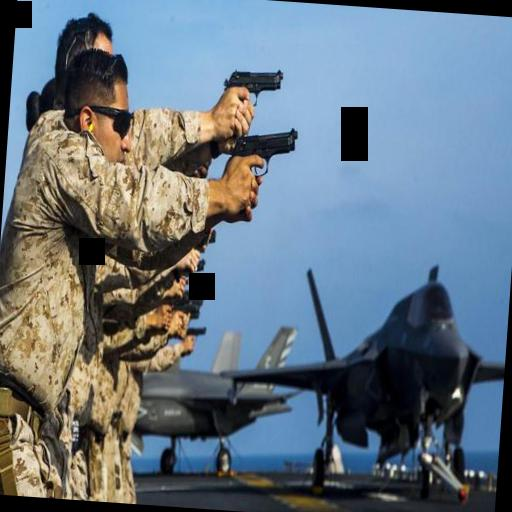Handgun: (220, 114, 300, 194), (216, 60, 286, 120)
